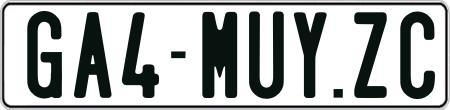4: (120, 10, 161, 99)
A: (73, 12, 115, 98)
C: (398, 10, 435, 101)
G: (24, 9, 63, 100)
M: (202, 12, 239, 98)
U: (248, 10, 285, 98)
Y: (292, 9, 328, 98)
Z: (354, 11, 387, 100)
